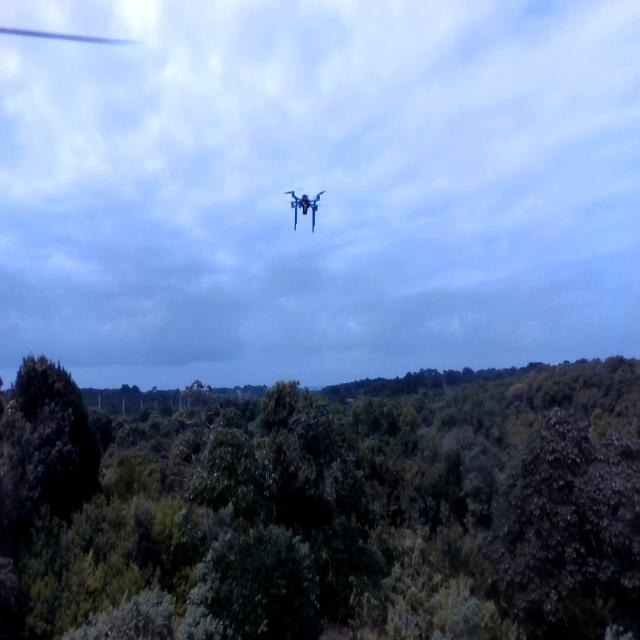-uav-: (282, 170, 329, 234)
